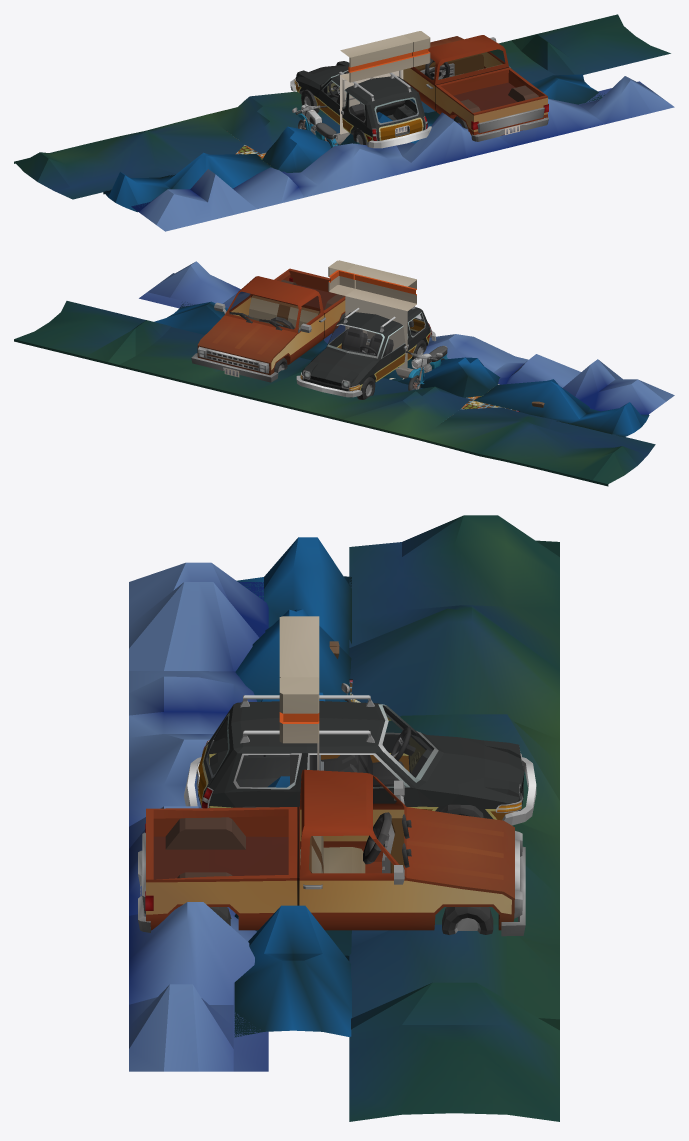
Rendered from CityProps-BatchTwo.glb.
3 views of the same model, one above another, from view 1: azimuth 30°, elevation 25°; view 2: azimuth 150°, elevation 25°; view 3: azimuth 270°, elevation 25° (orthographic). The views are drawn at different scales.
Visible parts, largest first — view 1: BackgroundMountains, ChevroletTruck, AMCPacer, Wall_Topper_Straight, MZTrophy, Wall_Topper_Corner, Wall_Door; view 2: BackgroundMountains, ChevroletTruck, AMCPacer, Wall_Topper_Straight, Wall, MZTrophy, Wall_Topper_Corner; view 3: BackgroundMountains, ChevroletTruck, AMCPacer, Wall_Topper_Corner, Wall_Topper_Straight.
Boxes of the visible parts, x1,y1,x2,y2 form: BackgroundMountains: [14, 14, 674, 231]; ChevroletTruck: [403, 35, 548, 141]; AMCPacer: [290, 61, 431, 148]; Wall_Topper_Straight: [340, 35, 412, 82]; MZTrophy: [292, 104, 337, 148]; Wall_Topper_Corner: [404, 31, 430, 66]; Wall_Door: [340, 70, 403, 134]; BackgroundMountains: [14, 261, 674, 486]; ChevroletTruck: [191, 268, 345, 382]; AMCPacer: [296, 306, 436, 399]; Wall_Topper_Straight: [345, 264, 416, 311]; Wall: [345, 296, 407, 369]; MZTrophy: [406, 345, 447, 390]; Wall_Topper_Corner: [328, 260, 354, 295]; BackgroundMountains: [129, 515, 559, 1121]; ChevroletTruck: [138, 769, 525, 936]; AMCPacer: [184, 695, 536, 825]; Wall_Topper_Corner: [279, 677, 319, 743]; Wall_Topper_Straight: [279, 616, 319, 677].
Bounding box in the file's own units: 57.36 × 8.67 × 17.92.
